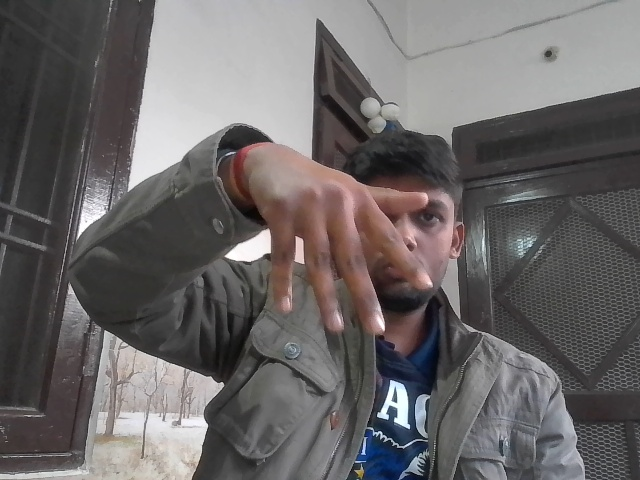HowAreYou: (246, 136, 446, 345)
